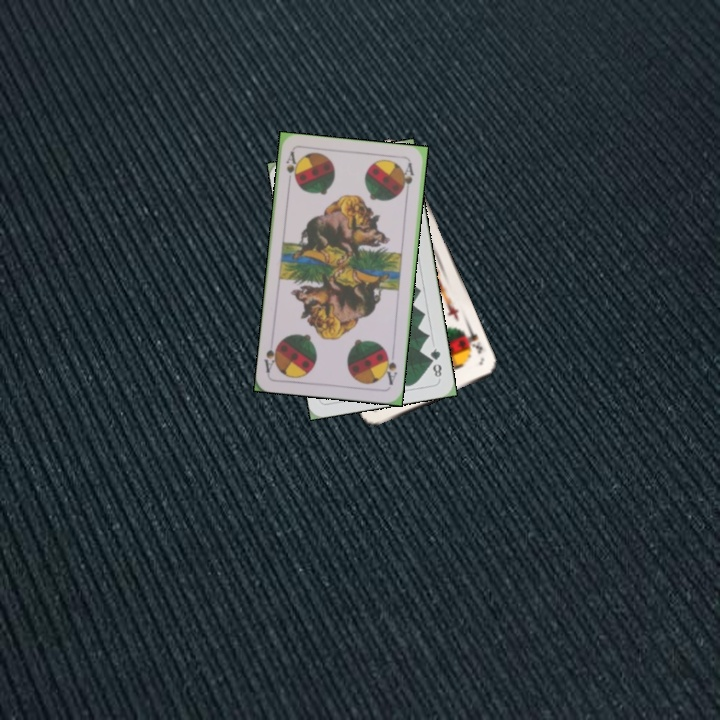G8: (426, 344, 444, 380)
SA: (380, 347, 400, 388), (282, 148, 300, 188)
SK: (459, 324, 485, 356)
